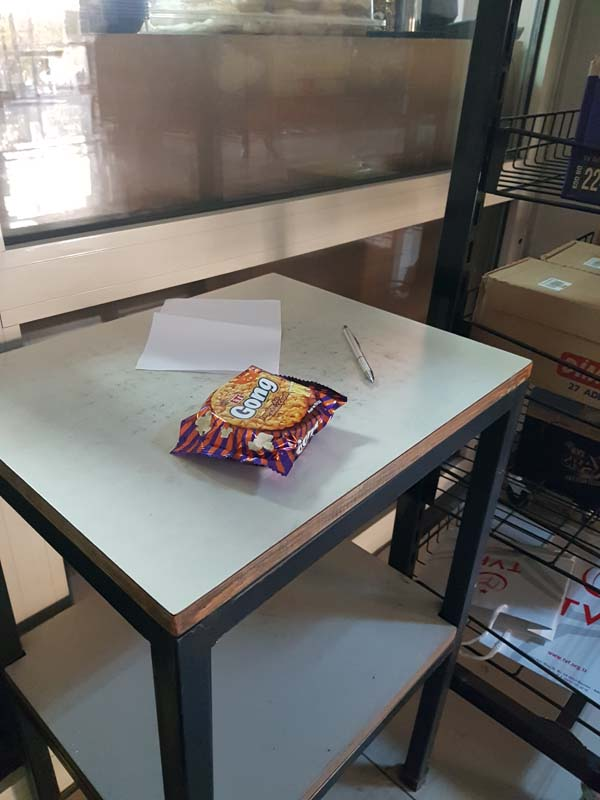etigong: (170, 353, 349, 482)
